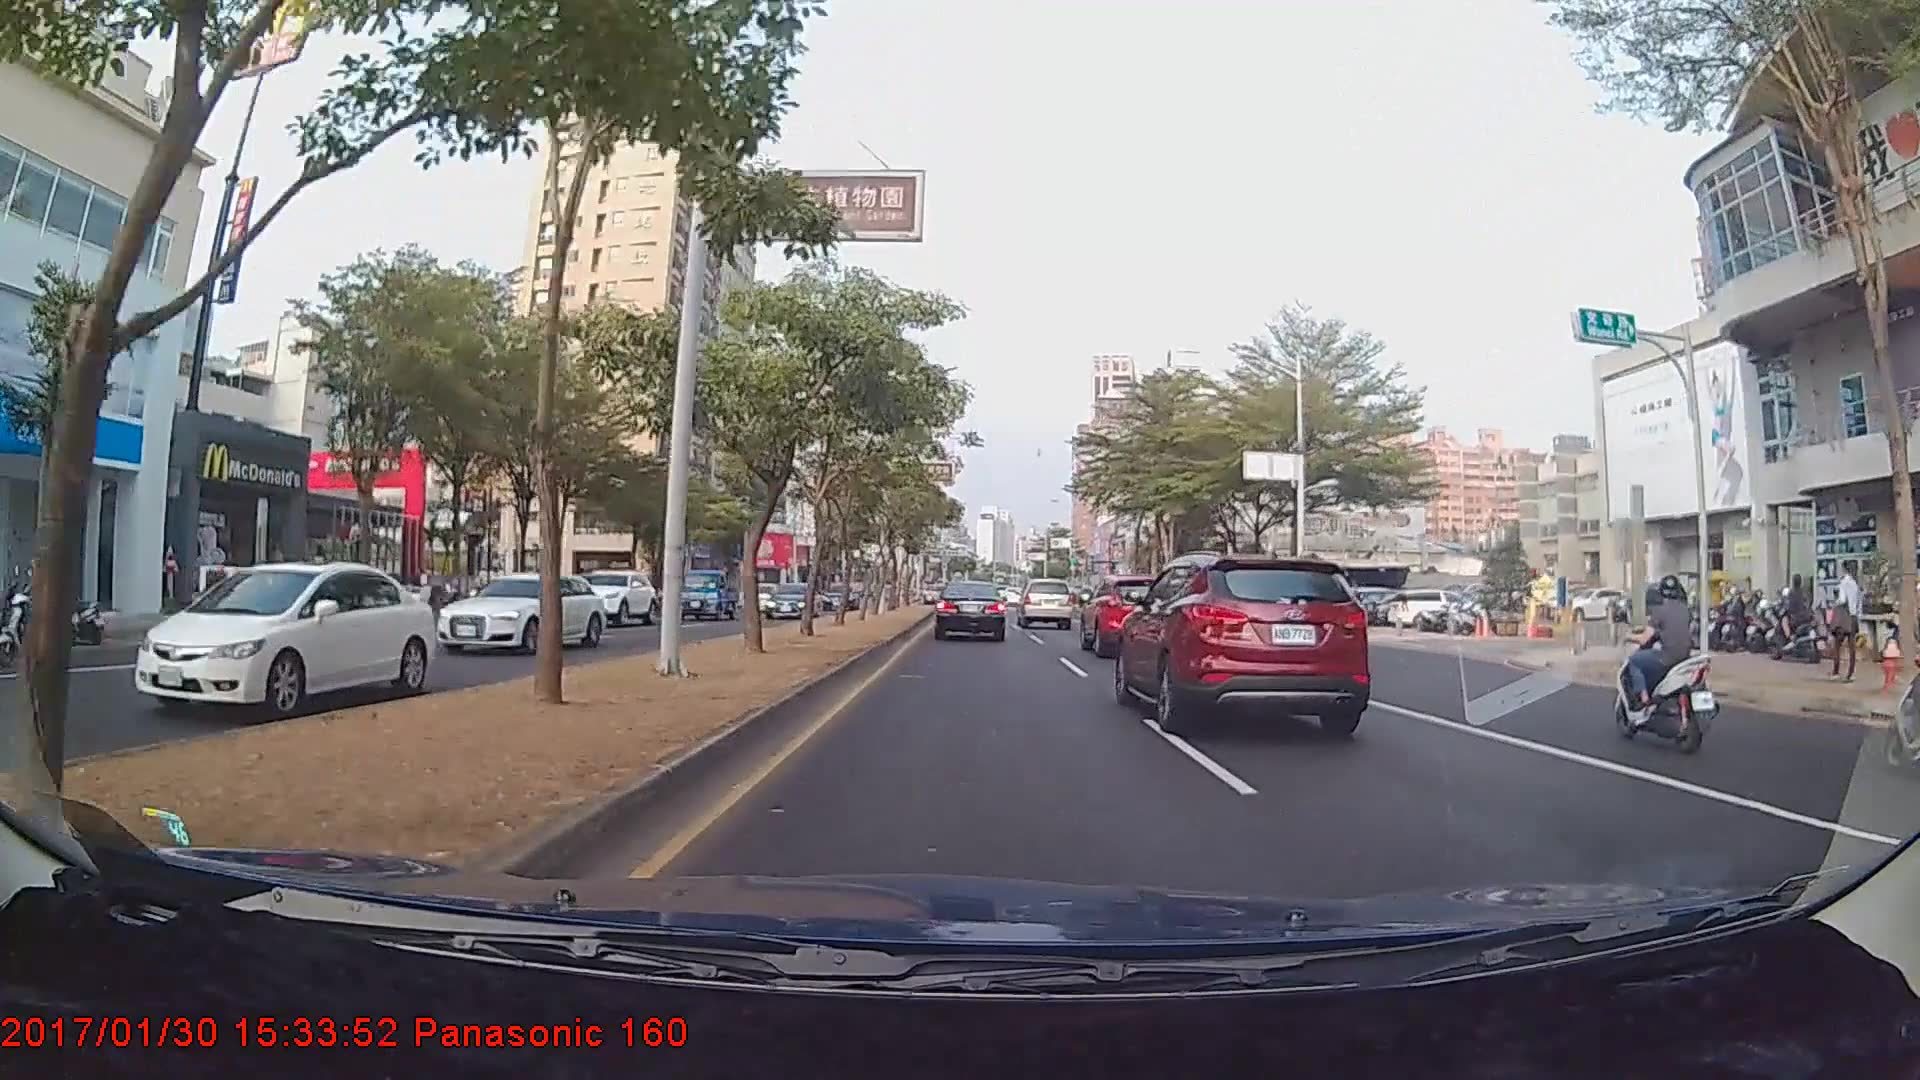pedestrian: (1831, 561, 1865, 679)
rider: (1599, 570, 1720, 753)
vehicle: (130, 559, 436, 720), (1119, 551, 1369, 731), (418, 574, 597, 658), (1079, 572, 1201, 658), (562, 570, 659, 628), (934, 579, 1007, 641), (677, 567, 738, 622), (1016, 577, 1073, 630), (765, 583, 818, 618)
